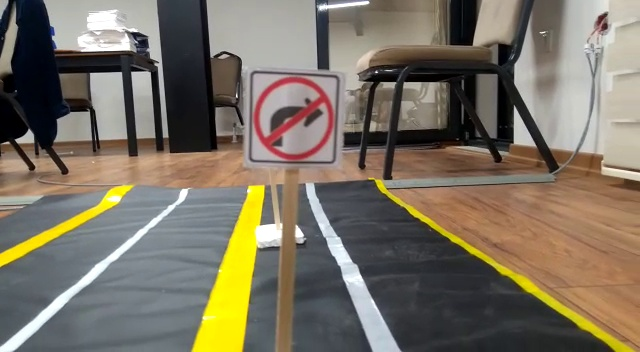saga_donulmez: (249, 69, 338, 160)
